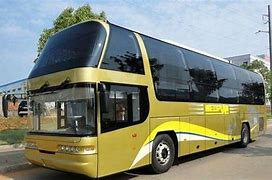bigcar: (19, 15, 267, 173)
